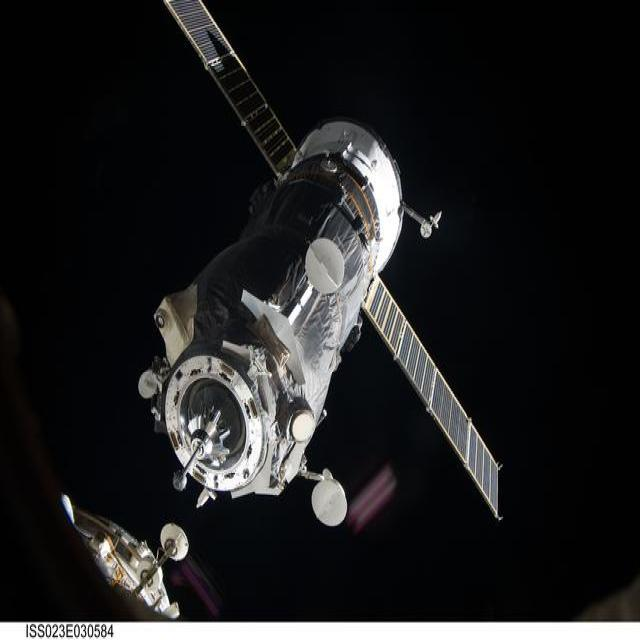satellite: (139, 0, 499, 524)
